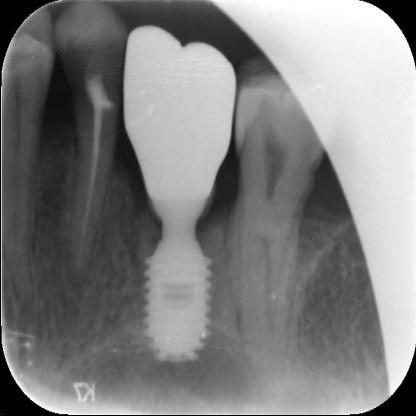Bicon: (138, 216, 210, 362)
